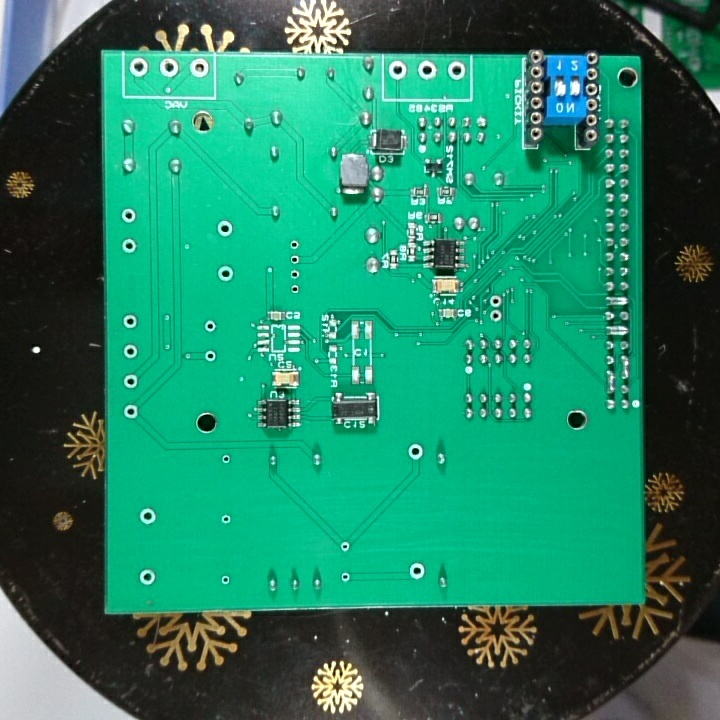F: (187, 55, 211, 81), (127, 55, 151, 80), (157, 55, 181, 80), (415, 58, 439, 83), (445, 58, 468, 82), (387, 58, 409, 82), (405, 560, 428, 582), (214, 263, 237, 285), (213, 217, 235, 239), (137, 566, 158, 587), (137, 506, 158, 527), (120, 310, 140, 332), (405, 441, 425, 462), (120, 342, 140, 362), (120, 403, 141, 422), (120, 235, 139, 256), (119, 205, 137, 226), (121, 372, 140, 391), (286, 250, 304, 268), (488, 291, 505, 310), (202, 346, 219, 365), (488, 307, 505, 324), (217, 510, 234, 527), (286, 235, 303, 252), (202, 317, 218, 335), (337, 538, 353, 555), (218, 451, 234, 468), (287, 282, 304, 298), (287, 266, 303, 282), (339, 569, 352, 586), (218, 572, 233, 586)
P: (603, 368, 619, 396), (603, 294, 631, 309), (618, 354, 633, 382), (603, 323, 631, 337)
